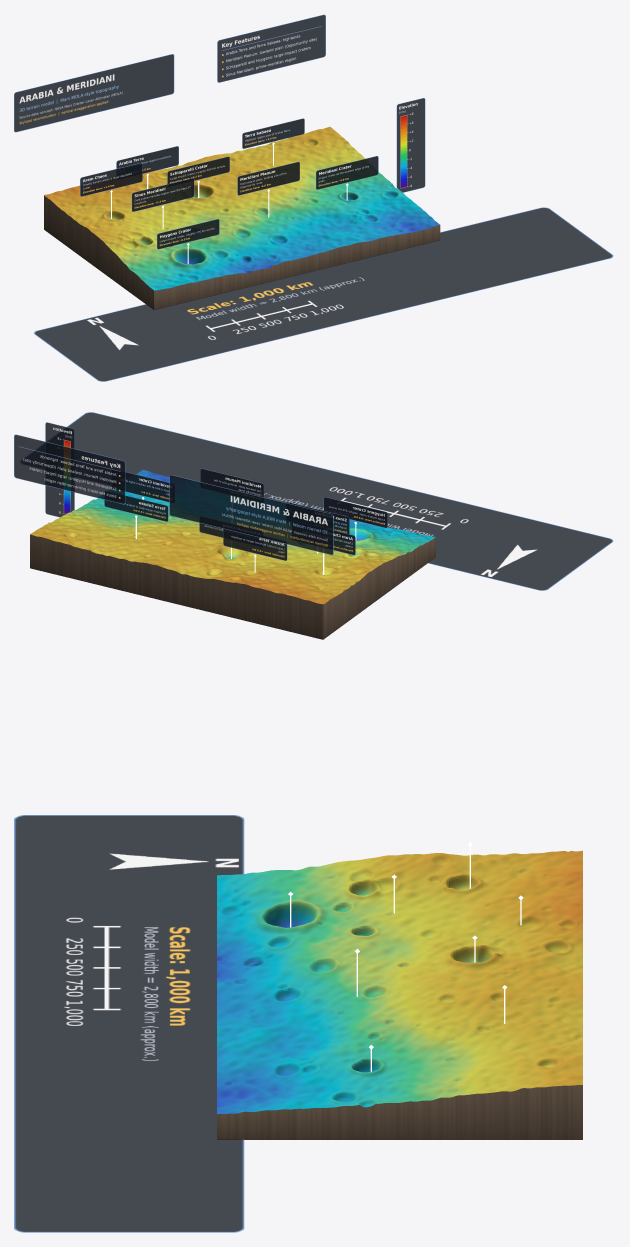
File: 05_Arabia_Meridiani.glb
3 views of the same model, one above another, from view 1: azimuth 30°, elevation 25°; view 2: azimuth 150°, elevation 25°; view 3: azimuth 270°, elevation 25° (orthographic). The views are drawn at different scales.
Visible parts, largest first — view 1: Info_ScaleAndCompass, Terrain_Surface, Terrain_Walls, Info_Title, Info_KeyFeatures, Info_ElevationLegend, Label_Sinus Meridiani, Label_Meridiani Crater, Label_Aram Chaos, Label_Meridiani Planum, Label_Terra Sabaea, Label_Huygens Crater (+2 smaller); view 2: Info_ScaleAndCompass, Terrain_Surface, Terrain_Walls, Info_Title, Info_KeyFeatures, Info_ElevationLegend, Label_Arabia Terra, Label_Meridiani Planum, Label_Meridiani Crater, Label_Huygens Crater, Label_Terra Sabaea, Label_Aram Chaos (+2 smaller); view 3: Info_ScaleAndCompass, Terrain_Surface, Terrain_Walls.
Part boxes in pixels (left/top/right/bottom): Info_ScaleAndCompass: left=34, top=207, right=613, bottom=381; Terrain_Surface: left=44, top=126, right=439, bottom=290; Terrain_Walls: left=44, top=195, right=440, bottom=310; Info_Title: left=14, top=54, right=174, bottom=132; Info_KeyFeatures: left=217, top=14, right=325, bottom=82; Info_ElevationLegend: left=396, top=98, right=425, bottom=192; Label_Sinus Meridiani: left=131, top=178, right=194, bottom=211; Label_Meridiani Crater: left=316, top=156, right=378, bottom=189; Label_Aram Chaos: left=80, top=163, right=142, bottom=196; Label_Meridiani Planum: left=237, top=161, right=299, bottom=195; Label_Terra Sabaea: left=242, top=118, right=304, bottom=148; Label_Huygens Crater: left=157, top=219, right=219, bottom=249; Info_ScaleAndCompass: left=24, top=412, right=613, bottom=590; Terrain_Surface: left=30, top=469, right=435, bottom=604; Terrain_Walls: left=30, top=534, right=435, bottom=639; Info_Title: left=169, top=475, right=333, bottom=555; Info_KeyFeatures: left=14, top=434, right=125, bottom=504; Info_ElevationLegend: left=45, top=422, right=74, bottom=517; Label_Arabia Terra: left=223, top=527, right=287, bottom=560; Label_Meridiani Planum: left=200, top=468, right=263, bottom=502; Label_Meridiani Crater: left=111, top=470, right=174, bottom=502; Label_Huygens Crater: left=323, top=497, right=387, bottom=527; Label_Terra Sabaea: left=104, top=491, right=168, bottom=521; Label_Aram Chaos: left=292, top=521, right=355, bottom=555; Info_ScaleAndCompass: left=14, top=815, right=244, bottom=1232; Terrain_Surface: left=217, top=850, right=582, bottom=1113; Terrain_Walls: left=217, top=1085, right=582, bottom=1139.
Bounding box in the file's own units: 18 × 4.57 × 10.97.
Materials: 14 (12 with a texture image).
